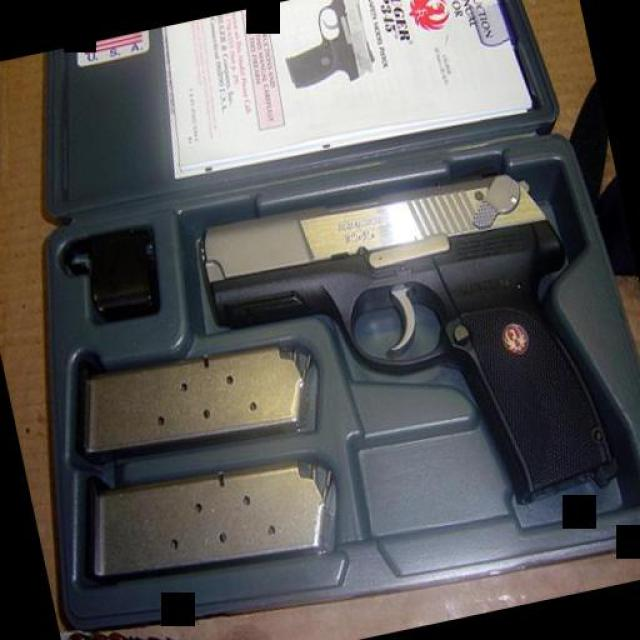gun: (192, 144, 622, 561)
